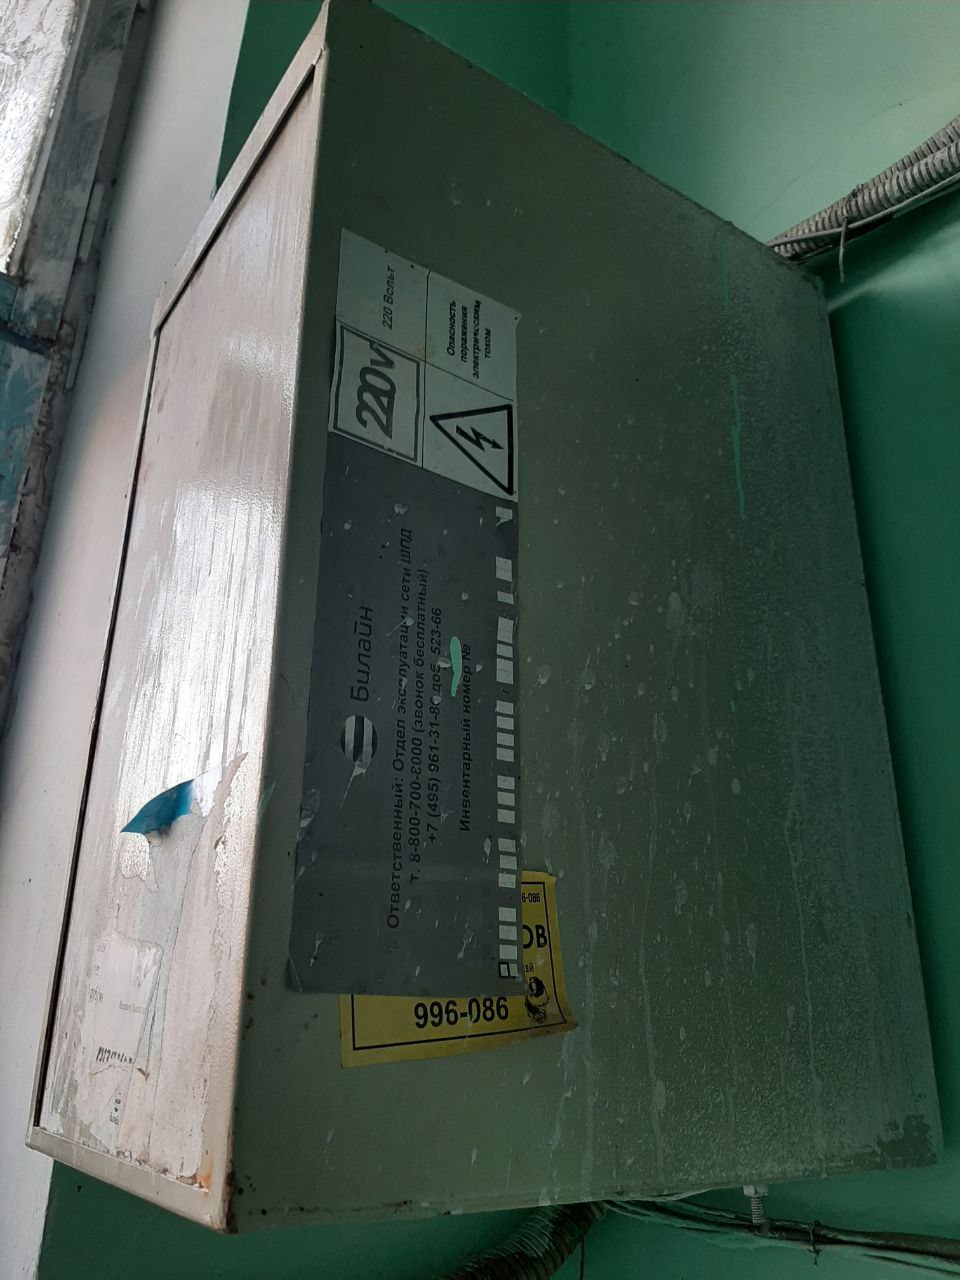sv-5: (14, 6, 938, 1242)
